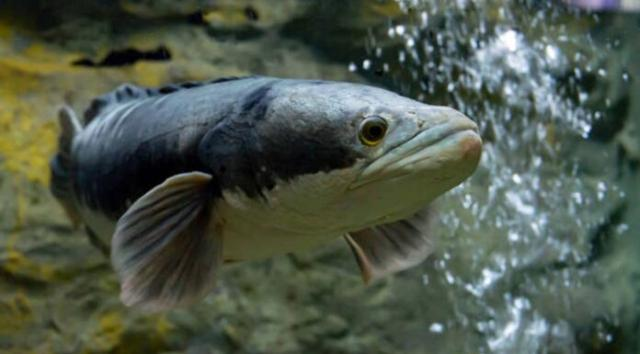Mulut: (319, 100, 503, 222)
Sirip Dada: (95, 155, 239, 327), (337, 205, 461, 291)
Sirip Ekor: (36, 94, 98, 249)
Sirip Punggung: (74, 64, 260, 134)
